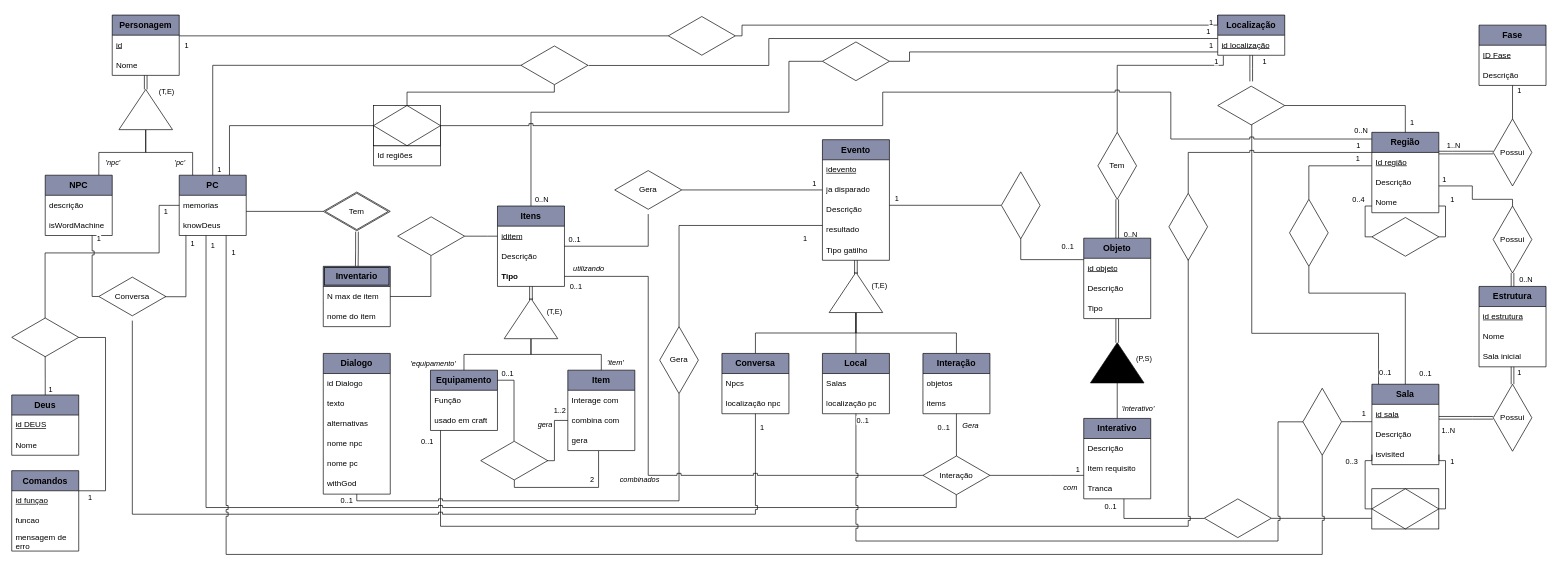
Image size: 1558x567. Some labels were removed from this diagram. The shapes that lost their labels are listed below. From the top down, each one's centre as x and y in pixels, then its label:
At [701,35]: "Está".
At [554,65]: "Viagem Rapida".
At [855,61]: "Podem Ter".
At [407,125]: "Regiões Visitadas".
At [1251,105]: "Aponta".
At [1020,205]: "Altera".
At [431,235]: "Guarda".
At [1187,226]: "É pre requisito".
At [1308,232]: "Saida".
At [1405,236]: "conecta".
At [45,337]: "Controla".
At [1321,421]: "Visitar 1ª vez".
At [514,460]: "Combina".
At [1237,517]: "Trava".
At [1405,508]: "Conexão".
